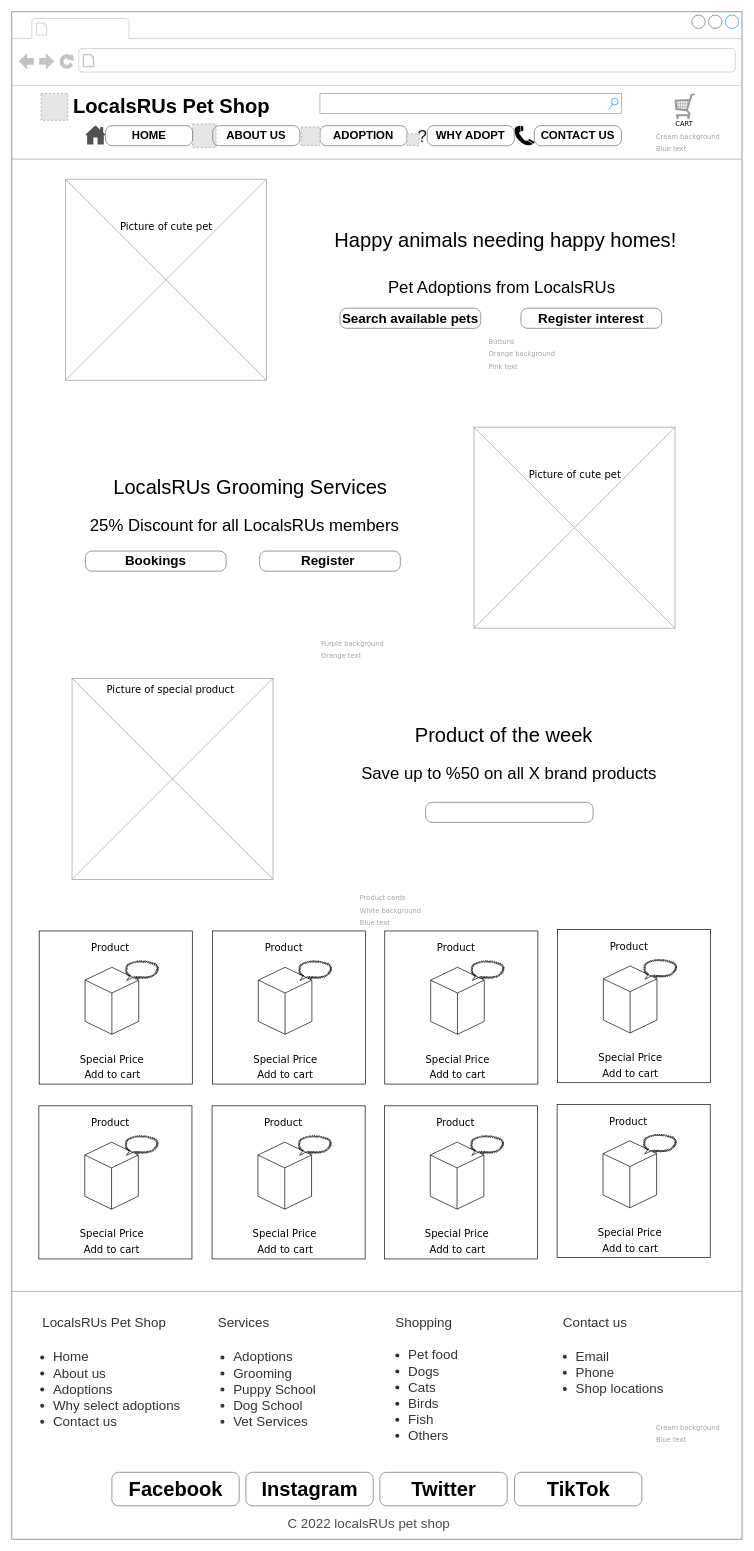
This 754x1551 diagram has some shape labels left out. Grey dashed boxes stand in for pictures. Each missing label, with the centre of its shape:
"https://www.localsruspetshop/home.com" goes at point 205,61.
"Page 1" goes at point 88,28.
"Search" goes at point 470,103.
"Shop now" goes at point 509,812.
